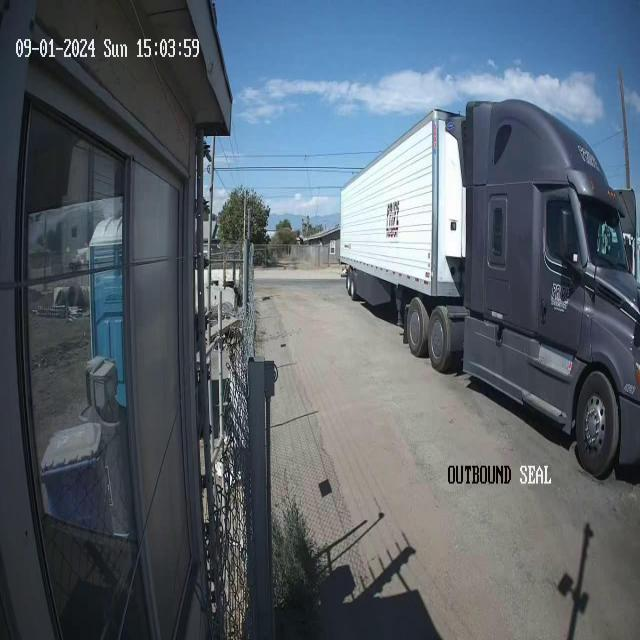TRUCK_CONTAINER: (339, 96, 639, 480)
